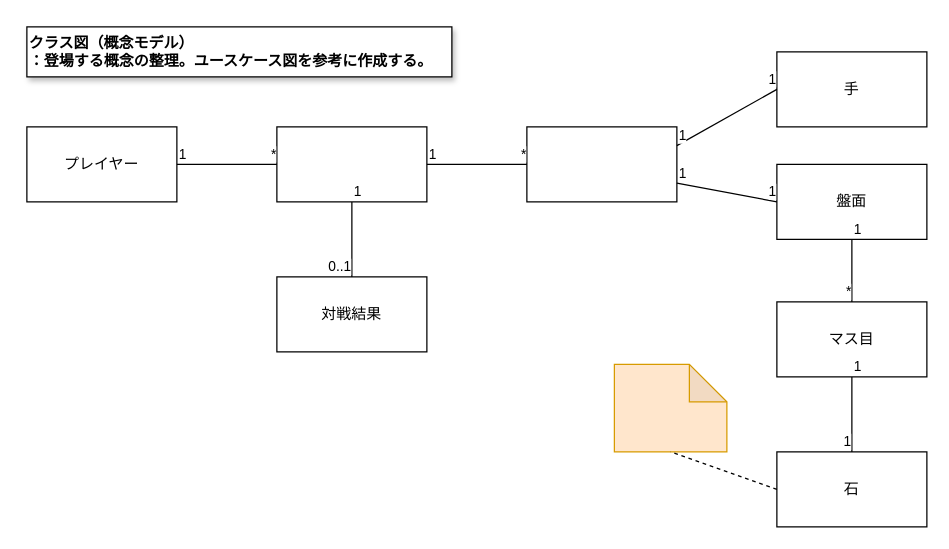
This 949x549 diagram has some shape labels left out. Here are the shapes that lost their labels. From the top down, the centre of each, then its label:
At point 351,164: "対戦（開始）".
At point 601,164: "ターン".
At point 670,407: "石の種類 ・空 ・黒 ・白".
